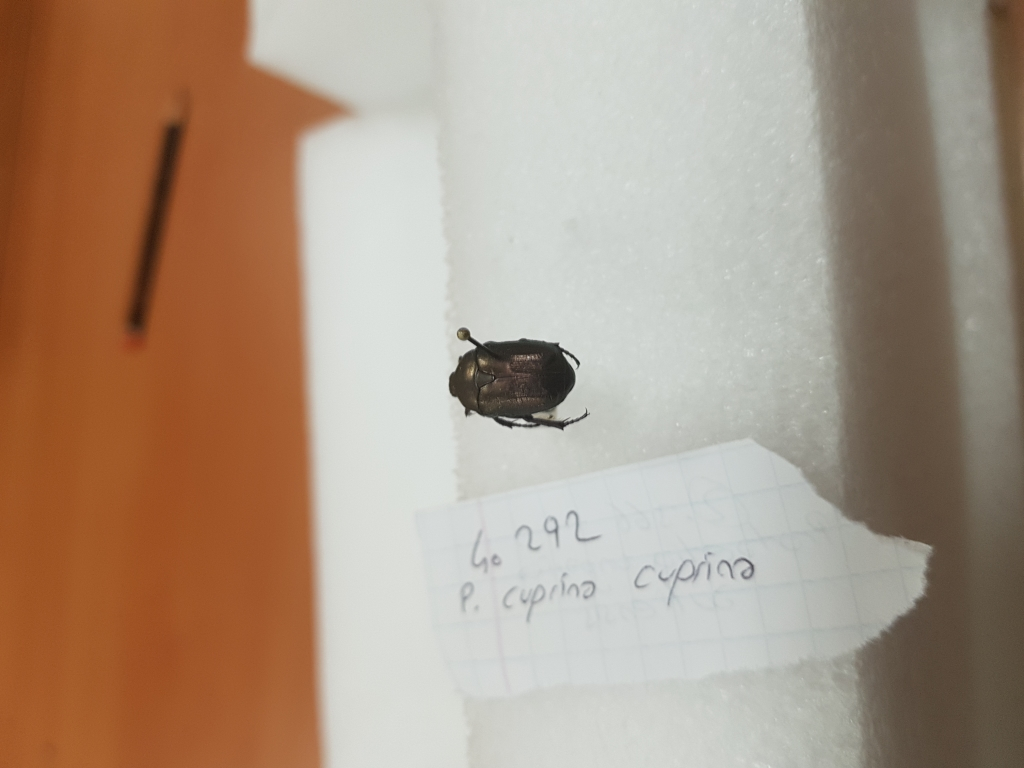Protaetia_cuprina_cuprina: (445, 334, 593, 438)
